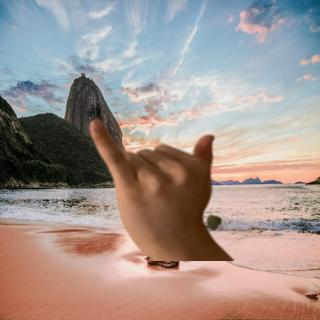HAVE: (74, 103, 222, 248)
